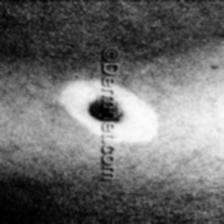Potentially Malignant Skin Tumors: (90, 97, 126, 124)
